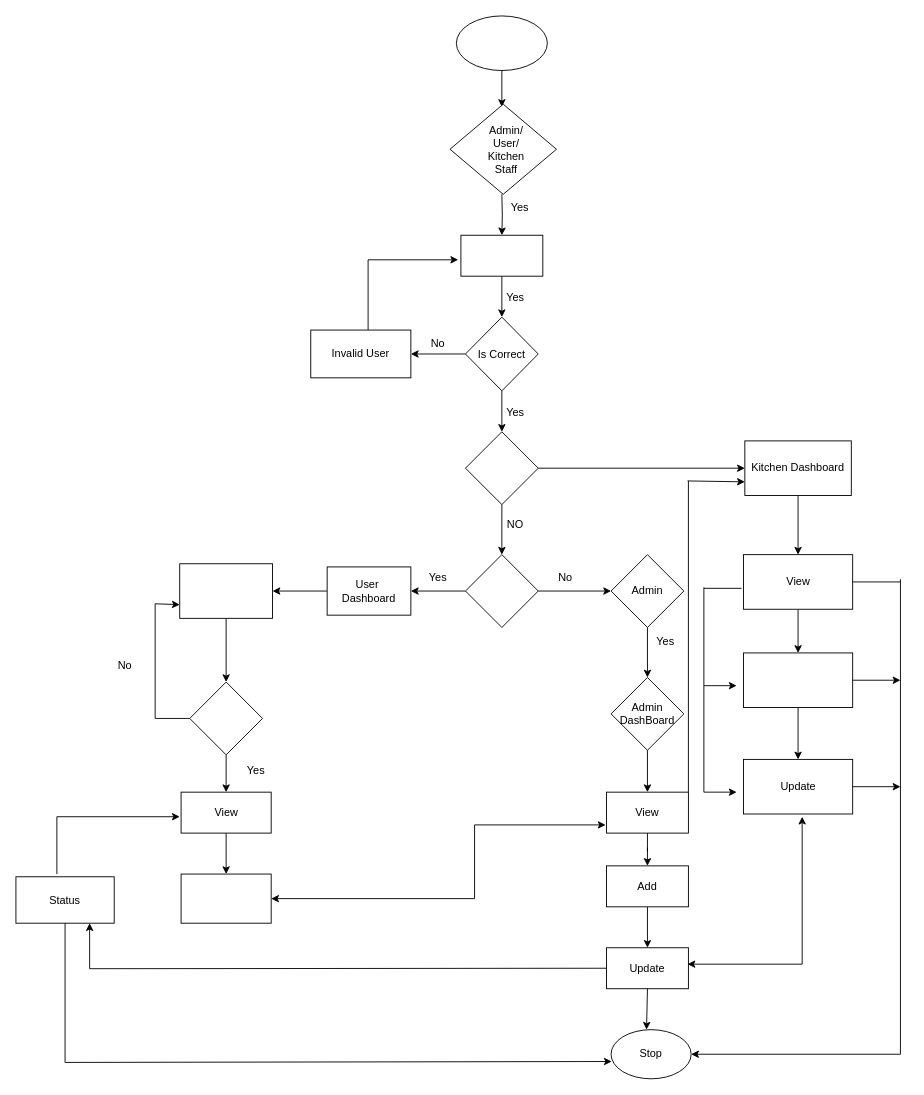
Image size: 924x1095. Some labels were removed from this diagram. Each missing label, with the centre of its shape:
"Is Present" goes at pixel 226 718.
"Kitchen Staff" goes at pixel 501 468.
"Login" goes at pixel 501 255.
"Place Order" goes at pixel 225 898.
"Search" goes at pixel 798 680.
"Search Menu" goes at pixel 226 590.
"START" goes at pixel 501 43.
"User" goes at pixel 501 590.
